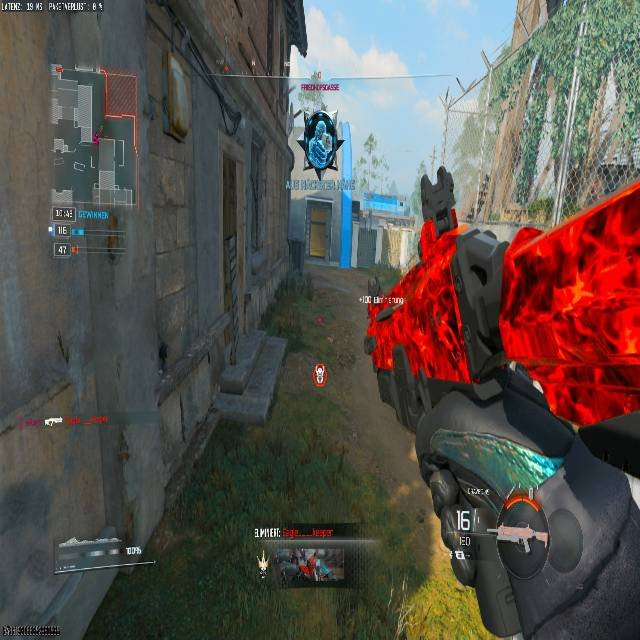player: (301, 109, 342, 175)
